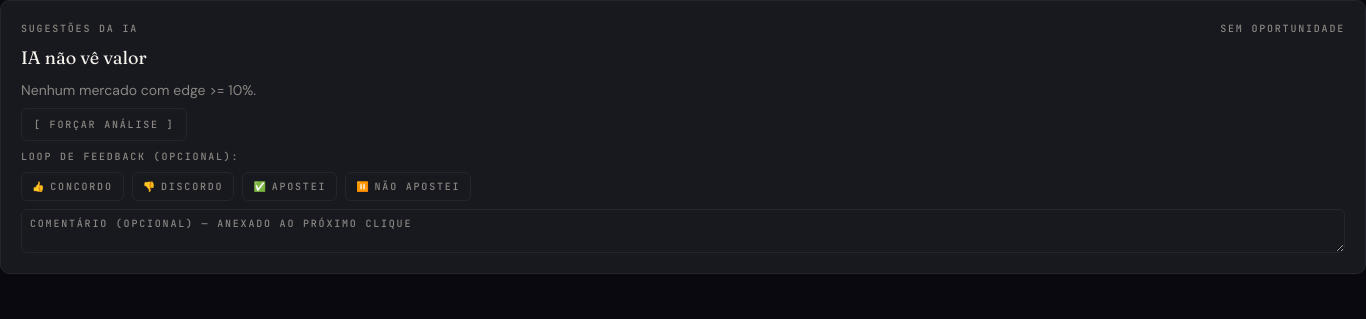
Test case: <AiRecoPanel> — force analysis button in skip state › shows forced disclaimer text when forced result is displayed
This screenshot has width=1366, height=319.
Click the button with test id "force-analysis-btn": click(104, 124) 21,108 -> 187,141
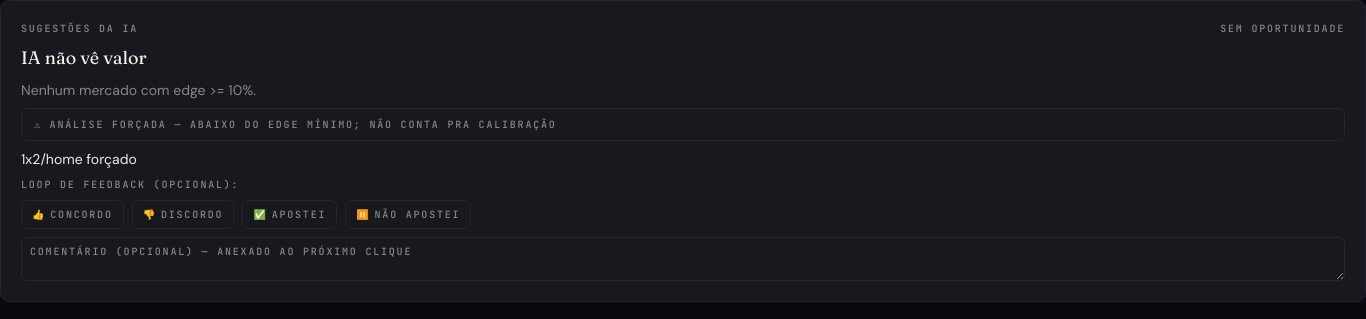
expect the text with test id "forced-disclaimer" is shown: met, box 21,108 -> 1345,141
expect the text with test id "forced-disclaimer" reads "⚠ análise forçada — abaixo do edge mínimo; não conta pra calibração": met, box 34,118 -> 557,131
